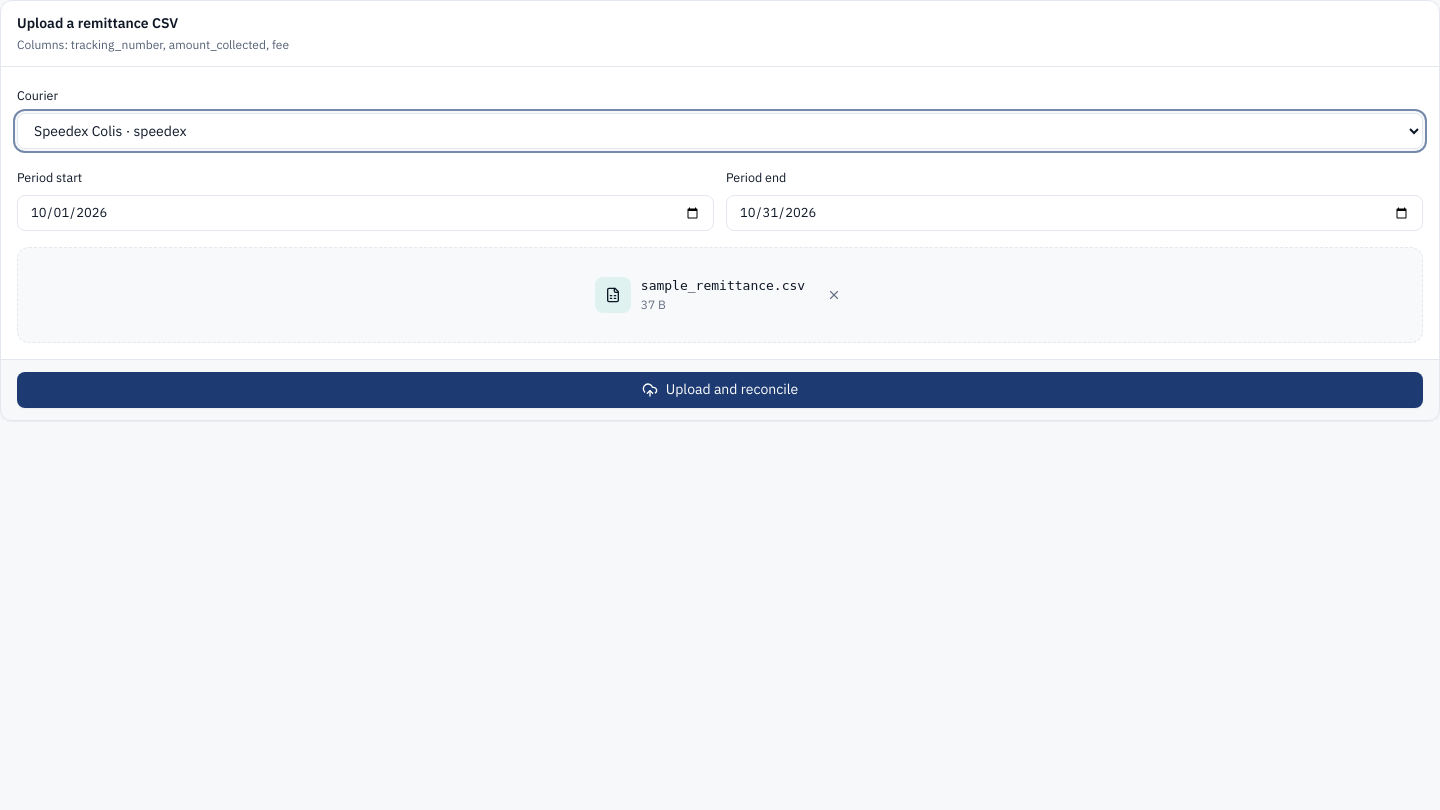
Test: UploadCard › explains the duplicate check and links the existing statement
Earlier steps of the test are not shown.
Expected: the text with test id "picked-file" reads "sample_remittance.csv", [641,278,805,293]
Click the button with test id "upload-submit": click(720, 390) [17,372,1423,408]
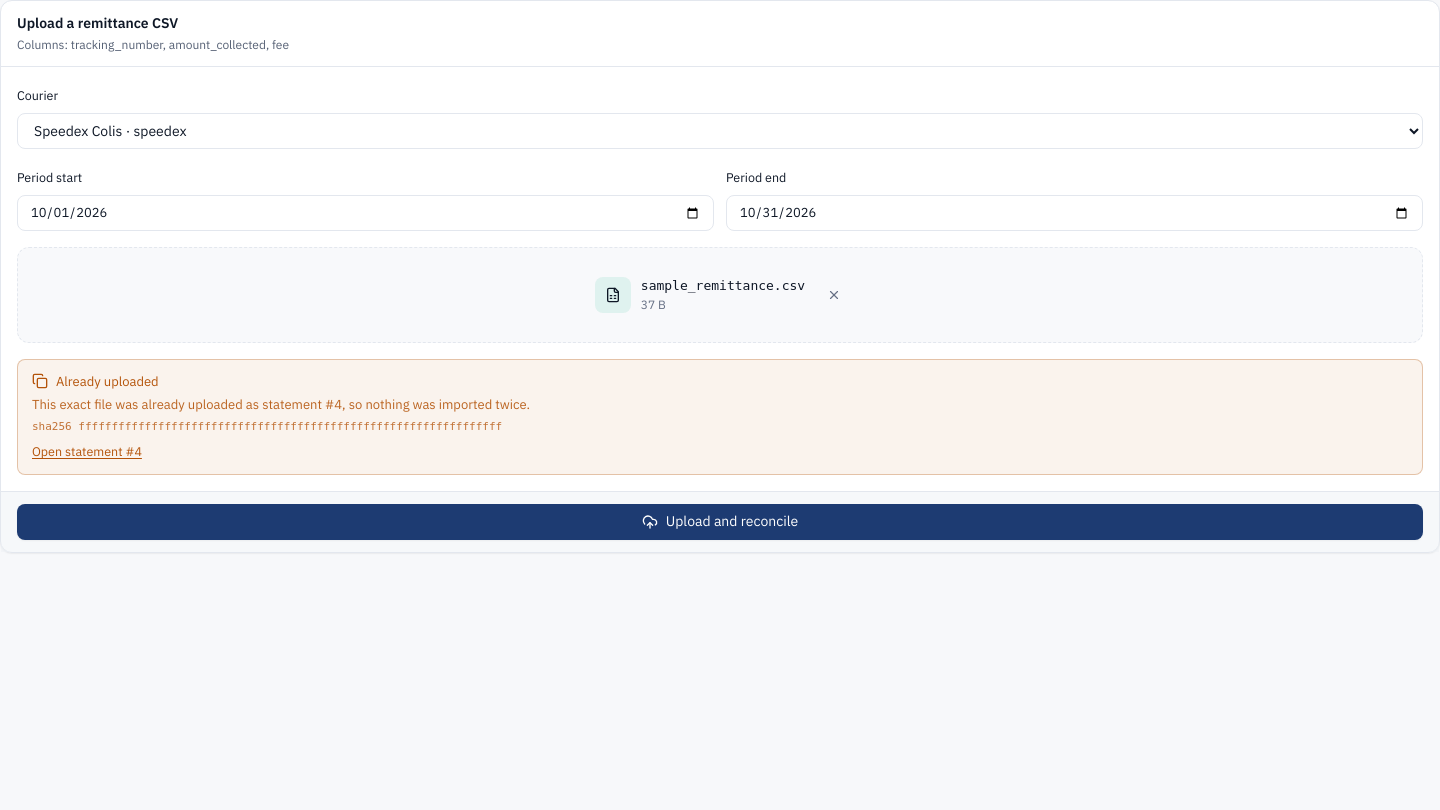
Result: the message with test id "duplicate-notice" shows "Already uploaded" at [56,372,159,390]
Result: the message with test id "duplicate-notice" shows "already uploaded as statement" at [32,395,530,414]
